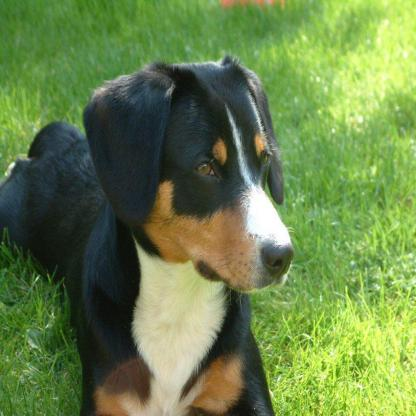EntleBucher: (3, 51, 295, 414)
